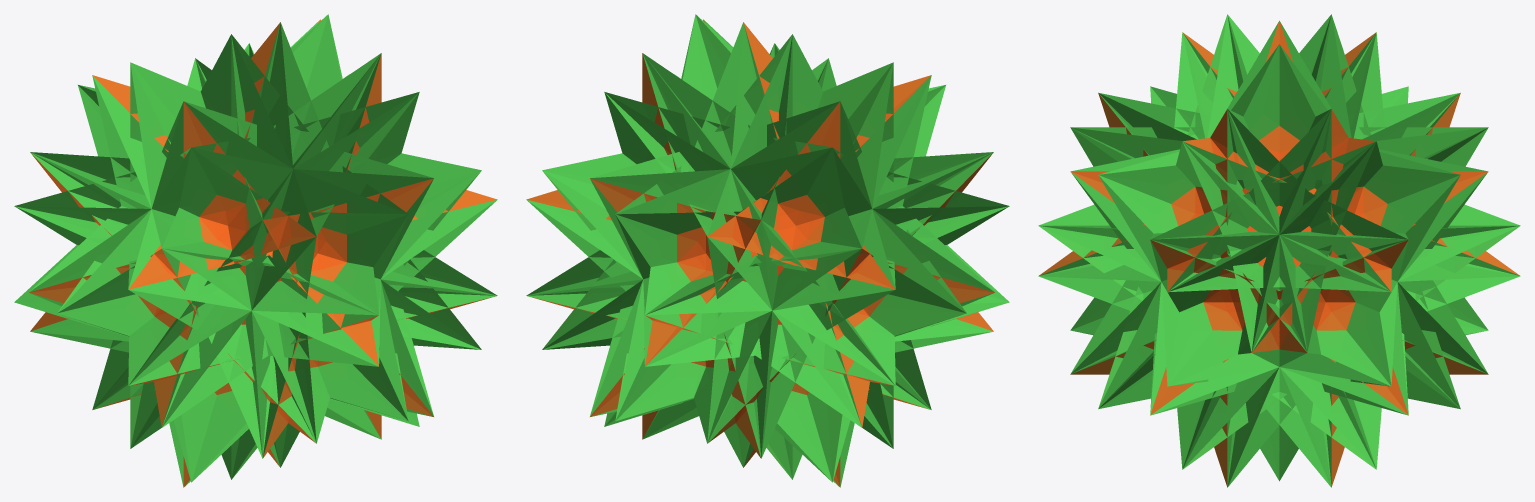
Rendered from SmallRetrosnubIcosicosidodecahedron.obj.
3 views of the same model, side by side, from view 1: azimuth 30°, elevation 25°; view 2: azimuth 150°, elevation 25°; view 3: azimuth 270°, elevation 25° (orthographic).
Bounding box in the file's own units: 1.15 × 1.15 × 1.15.
